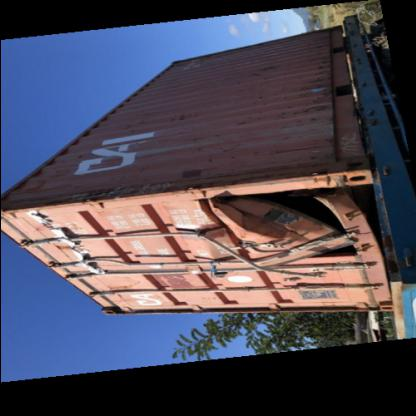Damage: (35, 197, 375, 286)
